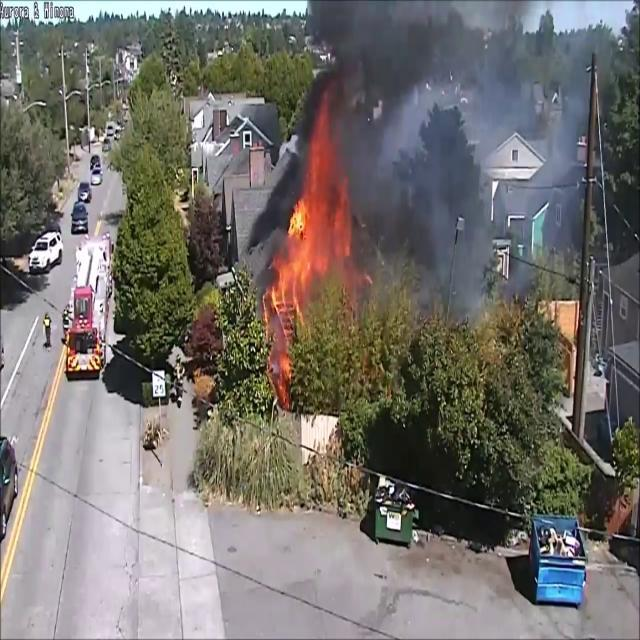Fire: (264, 126, 348, 368)
Smoke: (307, 1, 596, 314), (531, 24, 587, 248)
